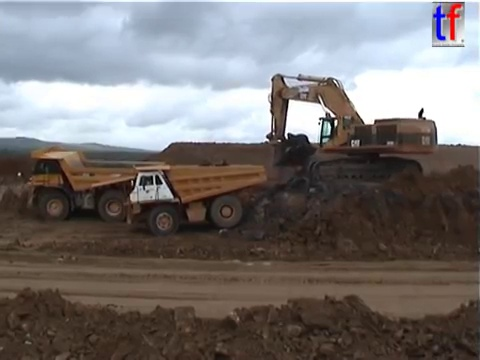excavator: (263, 71, 439, 189)
truck: (16, 144, 169, 224), (121, 161, 268, 236)
